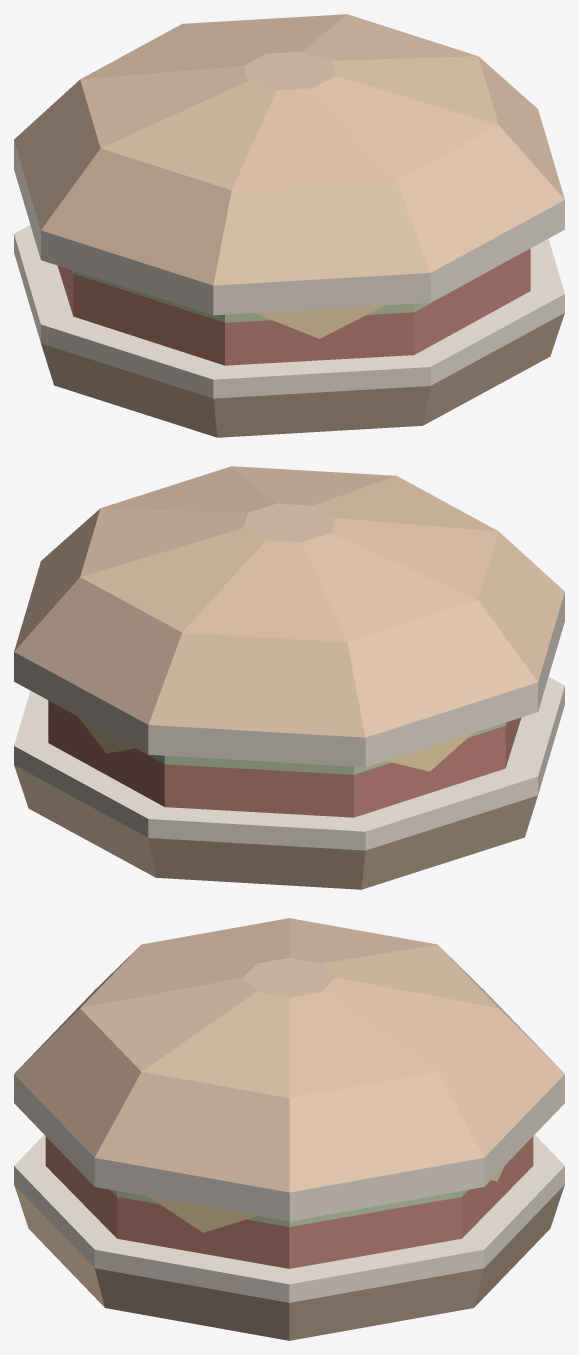
Rendered from Cheeseburger.fbx.
3 views of the same model, one above another, from view 1: azimuth 30°, elevation 25°; view 2: azimuth 150°, elevation 25°; view 3: azimuth 270°, elevation 25° (orthographic). The views are drawn at different scales.
Parts seen in each view (by area): view 1: Cheeseburger; view 2: Cheeseburger; view 3: Cheeseburger.
Boxes of the visible parts, box(x1,y1,x2,y2) form: Cheeseburger: box(14, 14, 564, 437); Cheeseburger: box(14, 466, 564, 889); Cheeseburger: box(14, 918, 564, 1340).
Bounding box in the file's own units: 0.1214 × 0.06 × 0.1193.
